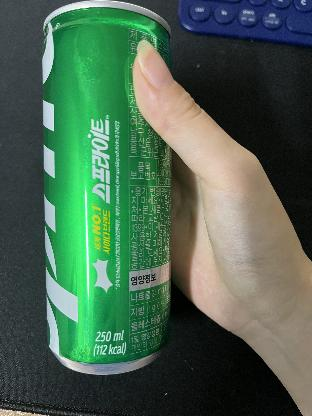Can: (42, 2, 174, 372)
